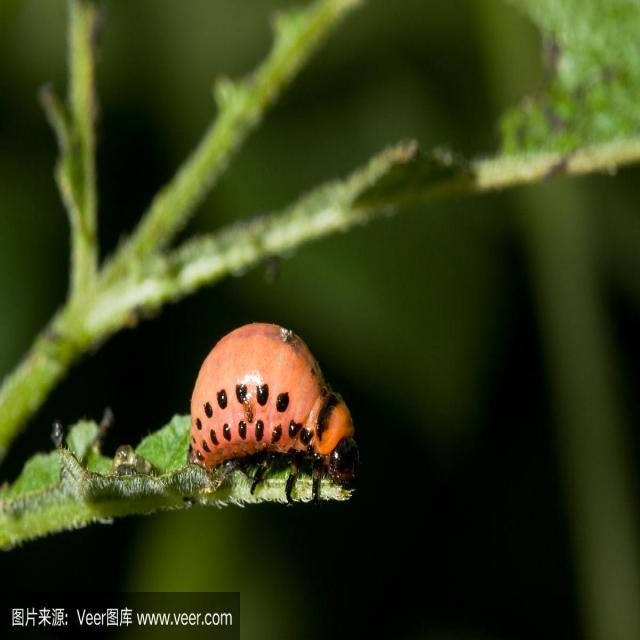ShuCaiHuaBanChong-Larva-: (168, 312, 376, 500)
